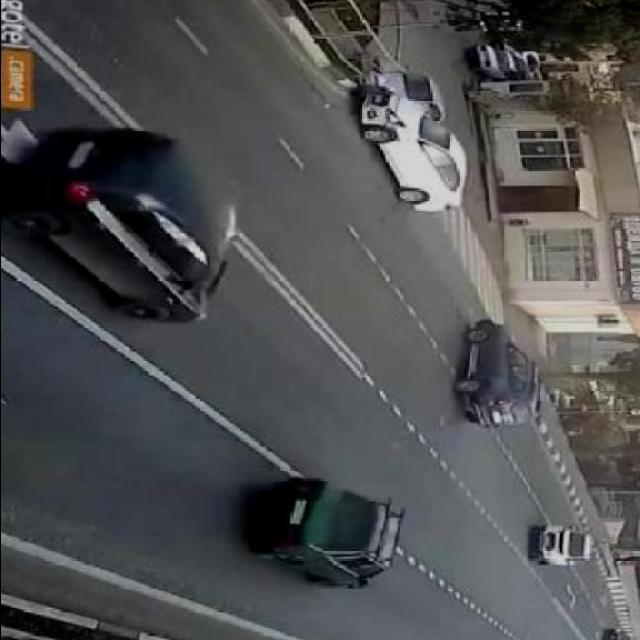accident: (355, 54, 469, 214)
